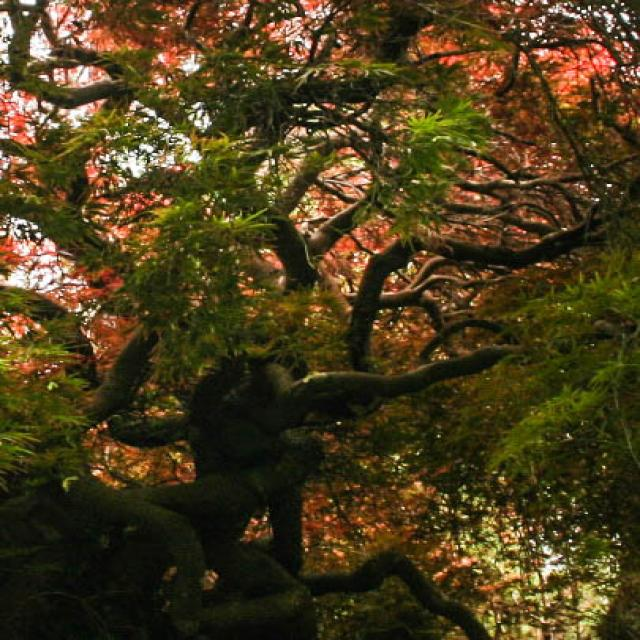Dissectum syn Atropurpurea: (4, 7, 640, 635)
